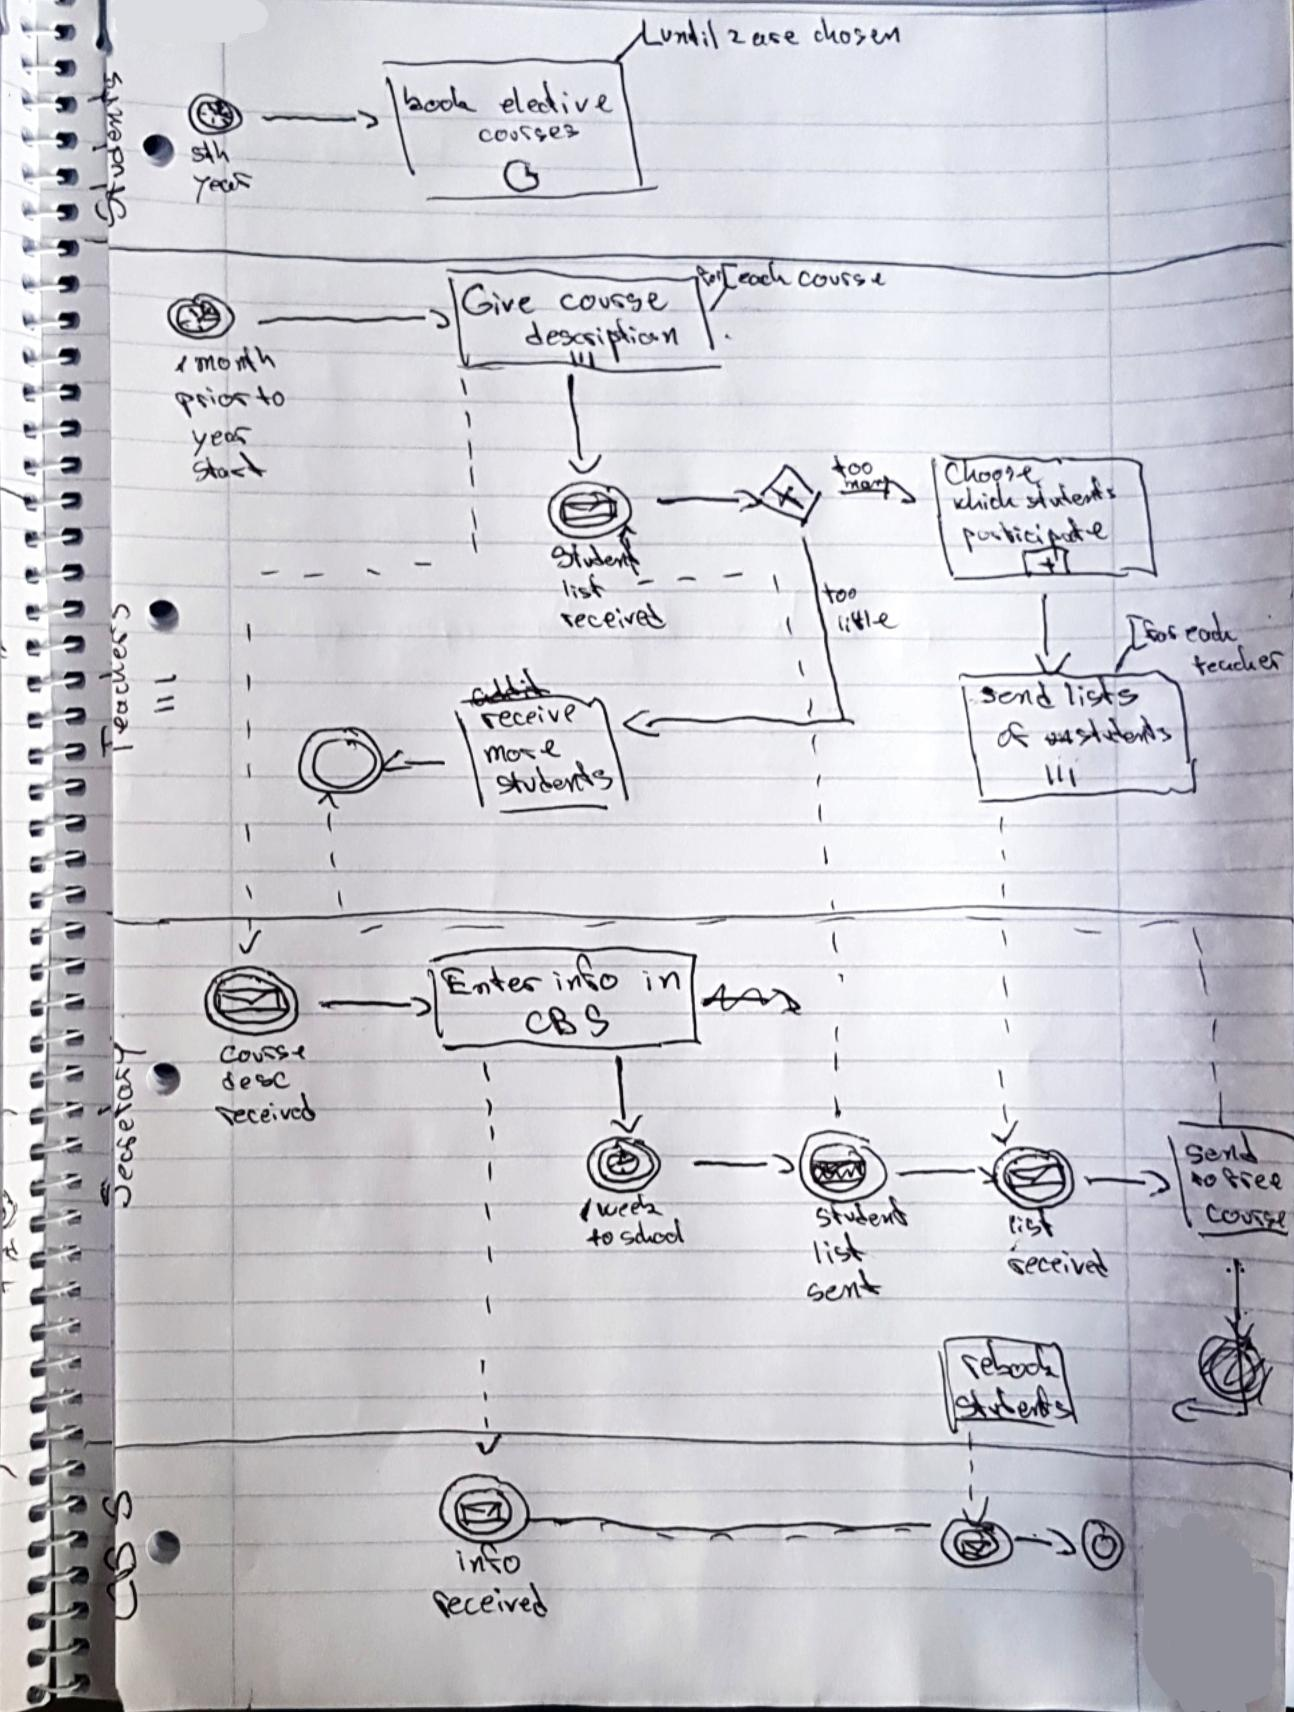1: (574, 1195, 593, 1227), (172, 352, 191, 379)
2: (724, 24, 748, 49)
5th: (187, 136, 233, 165)
CBS: (98, 1487, 143, 1623), (522, 1001, 614, 1040)
Choose: (942, 459, 1043, 488)
Course: (216, 1042, 310, 1066)
Enter: (439, 961, 548, 997)
Give: (460, 282, 537, 317)
III: (151, 671, 178, 718), (1040, 761, 1081, 789), (566, 348, 599, 369)
Secretary: (96, 1037, 147, 1211)
Student: (549, 544, 644, 578)
Students: (89, 66, 129, 229)
Teachers: (96, 601, 135, 757)
are: (751, 27, 801, 53)
book: (401, 83, 480, 117)
chosen: (812, 14, 903, 49)
course: (558, 289, 675, 316), (1204, 1200, 1292, 1227), (795, 268, 887, 291)
courses: (474, 125, 582, 148)
desc: (221, 1068, 291, 1092)
description: (525, 318, 682, 364)
each: (1185, 610, 1239, 647), (734, 260, 791, 289)
elective: (496, 76, 614, 118)
for: (1139, 618, 1180, 646)
free: (1219, 1166, 1286, 1194)
in: (639, 967, 685, 994)
info: (549, 952, 621, 994), (450, 1542, 521, 1577)
list: (805, 1238, 860, 1274), (1004, 1207, 1059, 1238), (559, 576, 609, 601)
lists: (1062, 680, 1141, 711)
little: (832, 609, 896, 638)
many: (840, 476, 895, 500)
month: (193, 344, 281, 375)
more: (480, 743, 564, 767)
of: (994, 716, 1034, 750)
participate: (958, 522, 1108, 566)
prior: (177, 386, 253, 421)
rebook: (957, 1341, 1058, 1382)
receive: (476, 710, 582, 734)
received: (431, 1581, 552, 1622), (212, 1101, 317, 1136), (1007, 1247, 1112, 1281), (559, 604, 666, 636)
school: (616, 1225, 686, 1254)
send: (1183, 1130, 1260, 1167), (980, 679, 1058, 710)
sent: (802, 1274, 882, 1306)
start: (189, 451, 266, 487)
student: (813, 1195, 912, 1229)
students: (955, 1383, 1072, 1422), (493, 761, 617, 797), (1073, 715, 1177, 747), (1024, 477, 1117, 512)
teacher: (1188, 648, 1287, 680)
to: (1187, 1167, 1220, 1193), (587, 1225, 617, 1251), (253, 384, 285, 408)
too: (830, 456, 878, 482), (820, 583, 859, 607)
until: (657, 17, 720, 51)
week: (594, 1193, 665, 1222)
which: (949, 483, 1020, 513)
year: (189, 171, 258, 207), (188, 428, 253, 457)
